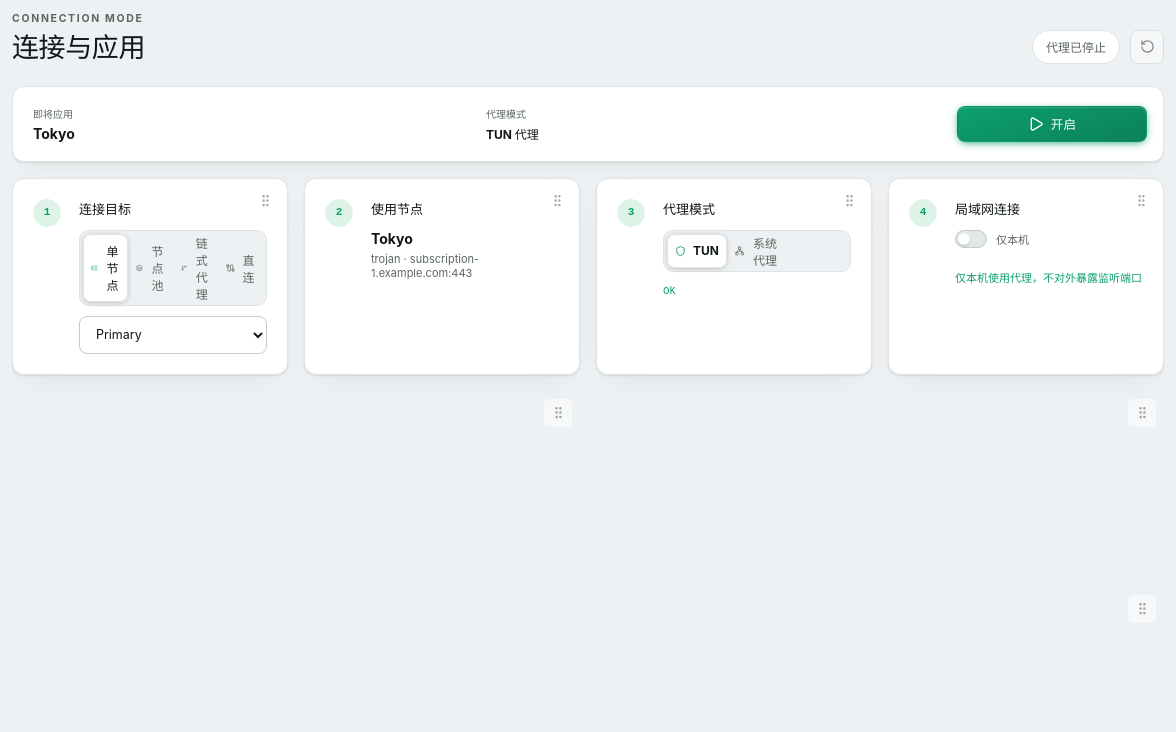
it: ConnectionView › falls back when remembered dropdown options no longer exist
Expected: the dropdown named "选择订阅" shows "Primary", [79,316,267,354]
Click the button "节点池". click: point(150, 268)
box: [128,234,173,302]
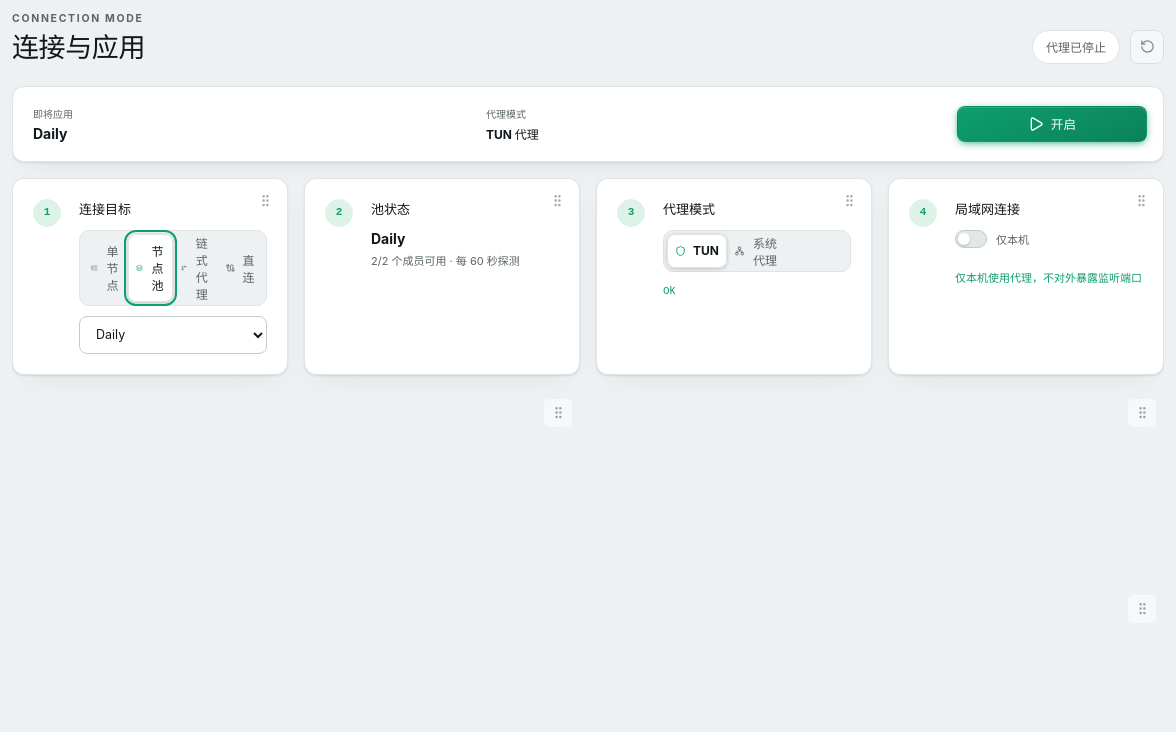
Expected: the dropdown named "选择节点池" shows "Daily", [79,316,267,354]
